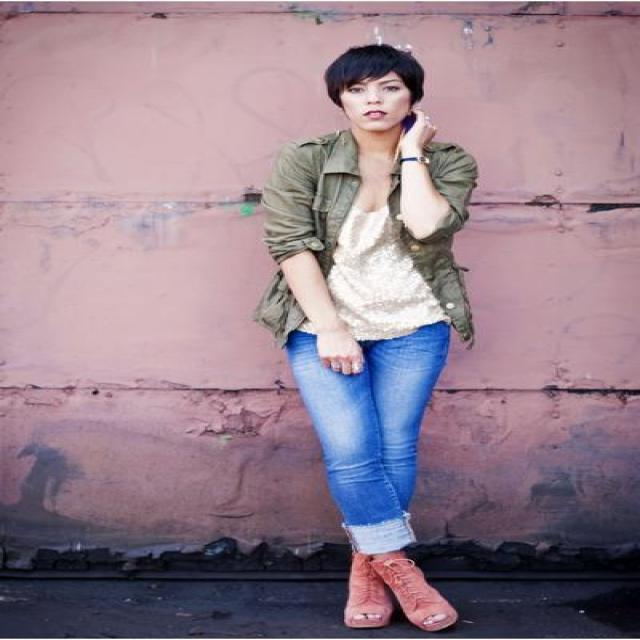jacket: (250, 128, 488, 341)
pants: (282, 320, 476, 554)
shirt: (330, 148, 440, 339)
shoe: (344, 550, 478, 639)
